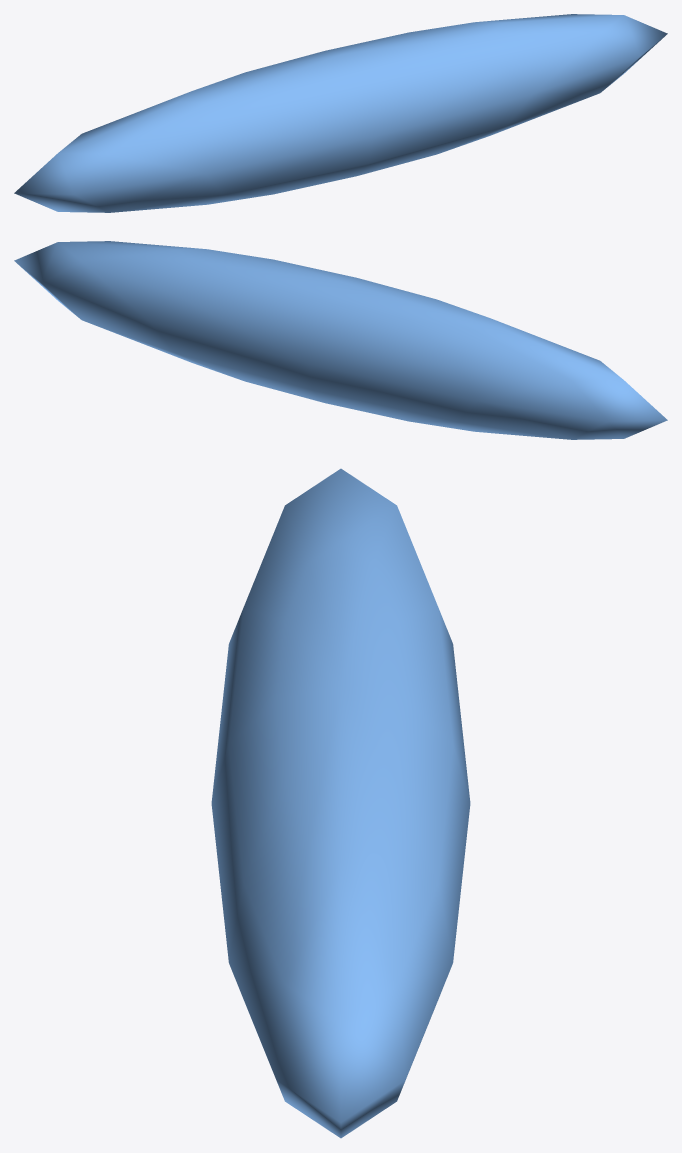
The model's file is Railgun.fbx.
3 renders of one model, top to bottom at view 1: azimuth 30°, elevation 25°; view 2: azimuth 150°, elevation 25°; view 3: azimuth 270°, elevation 25°, orthographic. The views are drawn at different scales.
Parts seen in each view (by area): view 1: rail_slug; view 2: rail_slug; view 3: rail_slug.
Boxes of the visible parts, x1,y1,x2,y2 form: rail_slug: [14, 14, 667, 212]; rail_slug: [14, 241, 667, 439]; rail_slug: [211, 468, 470, 1138].
Size of the model in its own units: 0.7 by 0.12 by 0.12.
